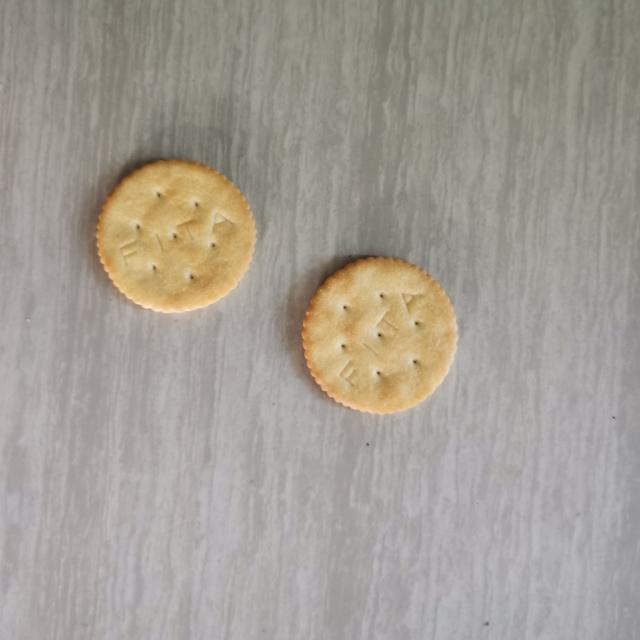Intact: (86, 149, 266, 320), (292, 247, 469, 419)
